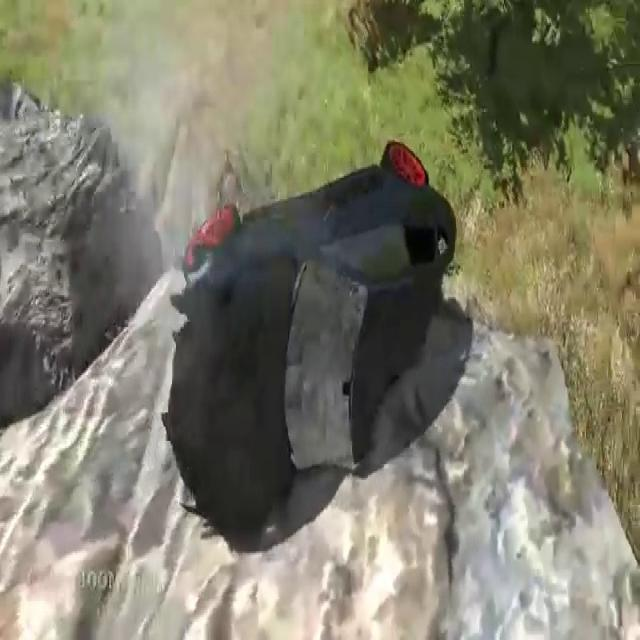severe: (158, 136, 460, 547)
